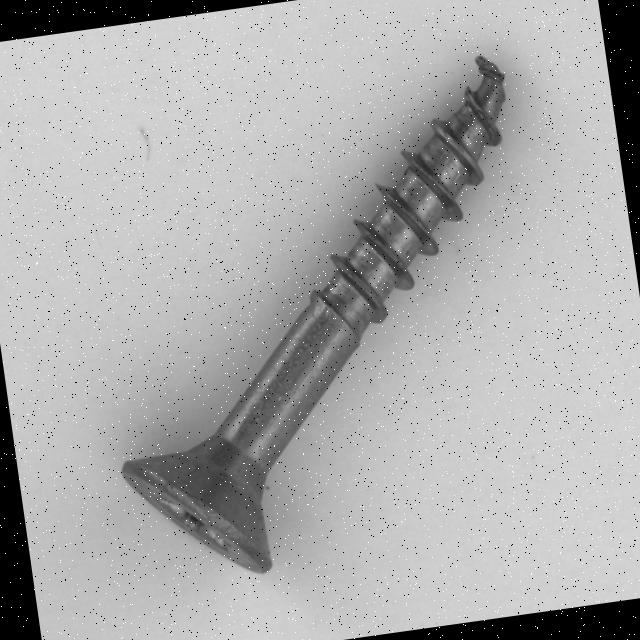manipulated_front: (461, 43, 522, 106)
